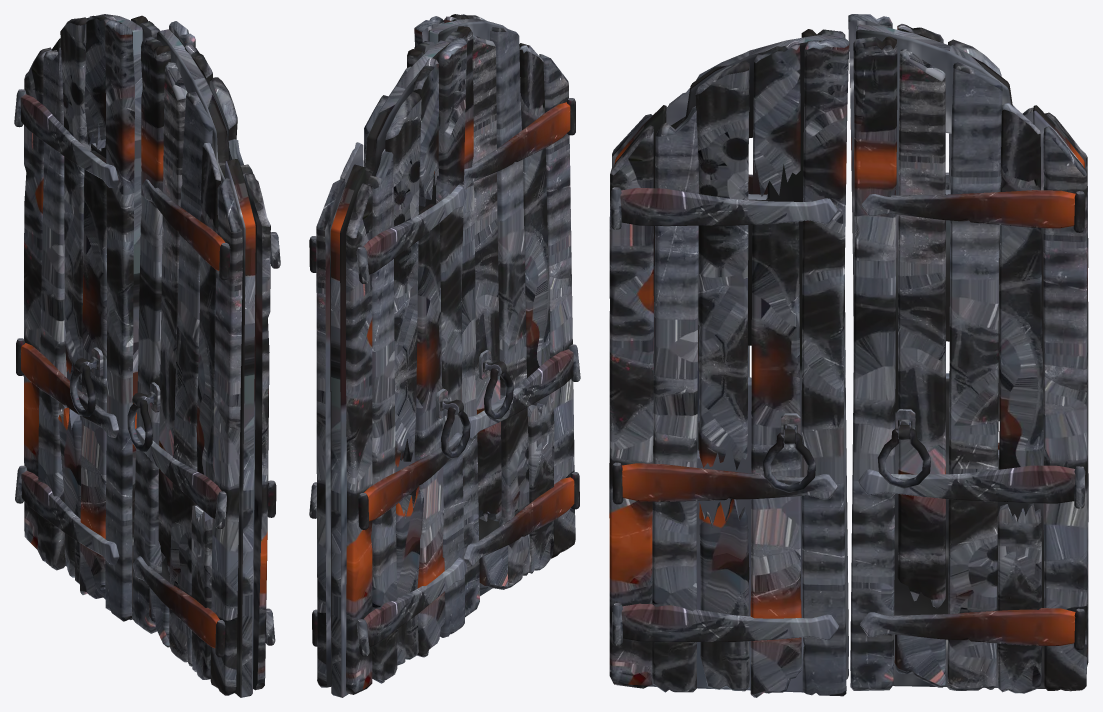
The picture shows the model from 3 angles, left to right: view 1: azimuth 30°, elevation 25°; view 2: azimuth 150°, elevation 25°; view 3: azimuth 270°, elevation 25°; orthographic projection. The views are drawn at different scales.
Parts seen in each view (by area): view 1: SM_Battlestaff_Kothaar_2H_01_LOD0; view 2: SM_Battlestaff_Kothaar_2H_01_LOD0; view 3: SM_Battlestaff_Kothaar_2H_01_LOD0.
Part boxes in pixels (x1,y1,x2,y2): SM_Battlestaff_Kothaar_2H_01_LOD0: (14, 14, 280, 697); SM_Battlestaff_Kothaar_2H_01_LOD0: (309, 14, 580, 697); SM_Battlestaff_Kothaar_2H_01_LOD0: (609, 14, 1088, 697).
Size of the model in its own units: 0.6201 by 3.93 by 2.58.
